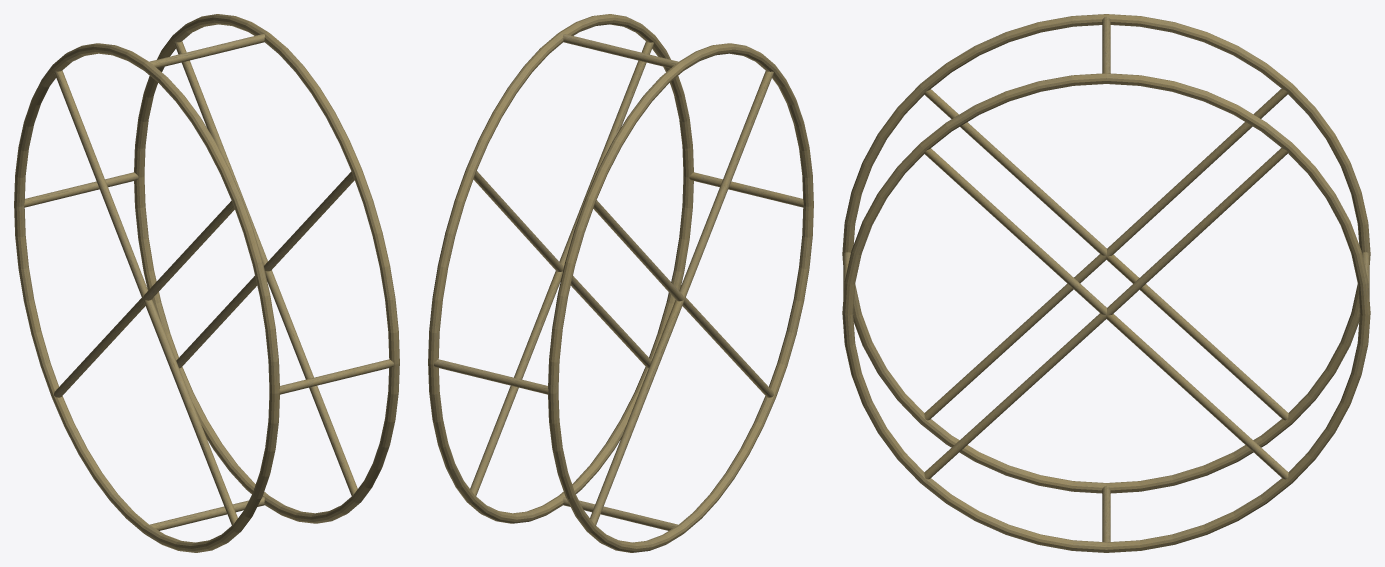
Rendered from ferris_wheel.obj.
3 renders of one model, left to right at view 1: azimuth 30°, elevation 25°; view 2: azimuth 150°, elevation 25°; view 3: azimuth 270°, elevation 25°, orthographic.
Parts seen in each view (by area): view 1: Torus.001, Torus, Cylinder.015, Cylinder.014, Cylinder.009, Cylinder.010, Cylinder.018, Cylinder.017, Cylinder.012, Cylinder.006, Cylinder.008, Cylinder.013 (+2 smaller); view 2: Torus.001, Torus, Cylinder.017, Cylinder.018, Cylinder.013, Cylinder.012, Cylinder.015, Cylinder.014, Cylinder.010, Cylinder.007, Cylinder.008, Cylinder.009 (+2 smaller); view 3: Torus, Torus.001, Cylinder.012, Cylinder.009, Cylinder.013, Cylinder.010, Cylinder.014, Cylinder.018, Cylinder.017, Cylinder.015.
Part boxes in pixels (x1,y1,x2,y2): Torus.001: (14,43,279,552); Torus: (134,14,399,523); Cylinder.015: (54,70,147,298); Cylinder.014: (143,299,237,526); Cylinder.009: (265,270,357,496); Cylinder.010: (174,41,267,265); Cylinder.018: (54,298,145,397); Cylinder.017: (143,201,234,300); Cylinder.012: (264,171,354,271); Cylinder.006: (279,359,393,394); Cylinder.008: (149,34,264,68); Cylinder.013: (176,276,257,368); Torus.001: (548,43,813,552); Torus: (428,14,693,523); Cylinder.017: (679,71,773,298); Cylinder.018: (590,299,684,526); Cylinder.013: (470,271,562,496); Cylinder.012: (559,41,654,266); Cylinder.015: (593,200,684,301); Cylinder.014: (682,297,773,397); Cylinder.010: (473,171,563,271); Cylinder.007: (434,359,548,394); Cylinder.008: (563,34,678,68); Cylinder.009: (570,276,651,368); Torus: (842,73,1370,552); Torus.001: (842,14,1370,493); Cylinder.012: (924,148,1106,314); Cylinder.009: (924,313,1106,479); Cylinder.013: (1106,314,1288,479); Cylinder.010: (1107,148,1287,315); Cylinder.014: (924,254,1106,420); Cylinder.018: (1106,254,1288,420); Cylinder.017: (924,89,1106,255); Cylinder.015: (1107,88,1287,256).
Bounding box in the file's own units: 7 × 24.5 × 24.5.
Materials: 1 (1 with a texture image).
